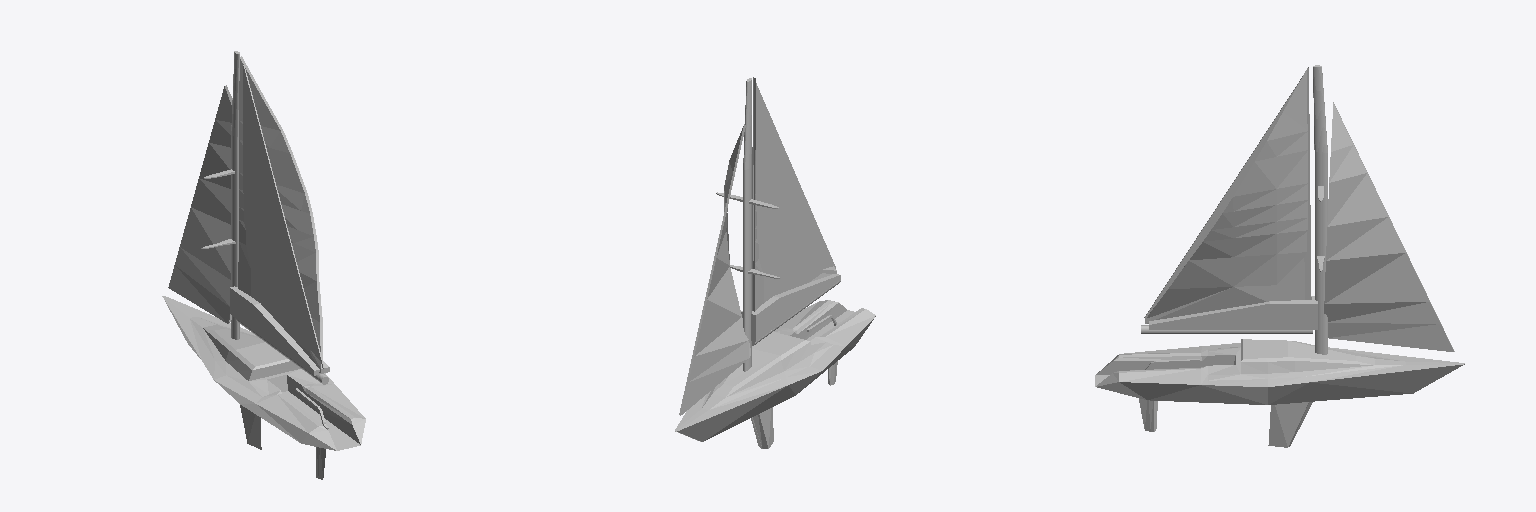
File: boat2.obj
The picture shows the model from 3 angles: view 1: azimuth 30°, elevation 25°; view 2: azimuth 150°, elevation 25°; view 3: azimuth 270°, elevation 25°; orthographic projection.
Visible parts, largest first — view 1: boat_Cylinder.001, sailMain_sailup_Plane.002, sailGenoa_onPower_Plane.004, sailMain_sailup._onPower_Plane.003, sailMain_laysybag_Plane.001; view 2: boat_Cylinder.001, sailMain_sailup_Plane.002, sailGenoa_onPower_Plane.004, sailMain_laysybag_Plane.001, sailMain_sailup._onPower_Plane.003; view 3: boat_Cylinder.001, sailMain_sailup._onPower_Plane.003, sailGenoa_onPower_Plane.004, sailMain_laysybag_Plane.001, sailMain_sailup_Plane.002, boom_Plane.
Part boxes in pixels (left/top/right/bottom): boat_Cylinder.001: left=162, top=51, right=365, bottom=450; sailMain_sailup_Plane.002: left=241, top=56, right=323, bottom=368; sailGenoa_onPower_Plane.004: left=168, top=85, right=232, bottom=323; sailMain_sailup._onPower_Plane.003: left=238, top=57, right=323, bottom=373; sailMain_laysybag_Plane.001: left=230, top=286, right=329, bottom=375; boat_Cylinder.001: left=675, top=78, right=875, bottom=448; sailMain_sailup_Plane.002: left=752, top=77, right=835, bottom=310; sailGenoa_onPower_Plane.004: left=679, top=124, right=750, bottom=415; sailMain_laysybag_Plane.001: left=741, top=274, right=840, bottom=341; sailMain_sailup._onPower_Plane.003: left=753, top=78, right=836, bottom=311; boat_Cylinder.001: left=1095, top=65, right=1464, bottom=447; sailMain_sailup._onPower_Plane.003: left=1145, top=68, right=1307, bottom=323; sailGenoa_onPower_Plane.004: left=1324, top=102, right=1454, bottom=351; sailMain_laysybag_Plane.001: left=1149, top=296, right=1317, bottom=329; sailMain_sailup_Plane.002: left=1144, top=67, right=1311, bottom=322; boom_Plane: left=1141, top=325, right=1312, bottom=333.
Bounding box in the file's own units: 4.68 × 17.57 × 15.52.